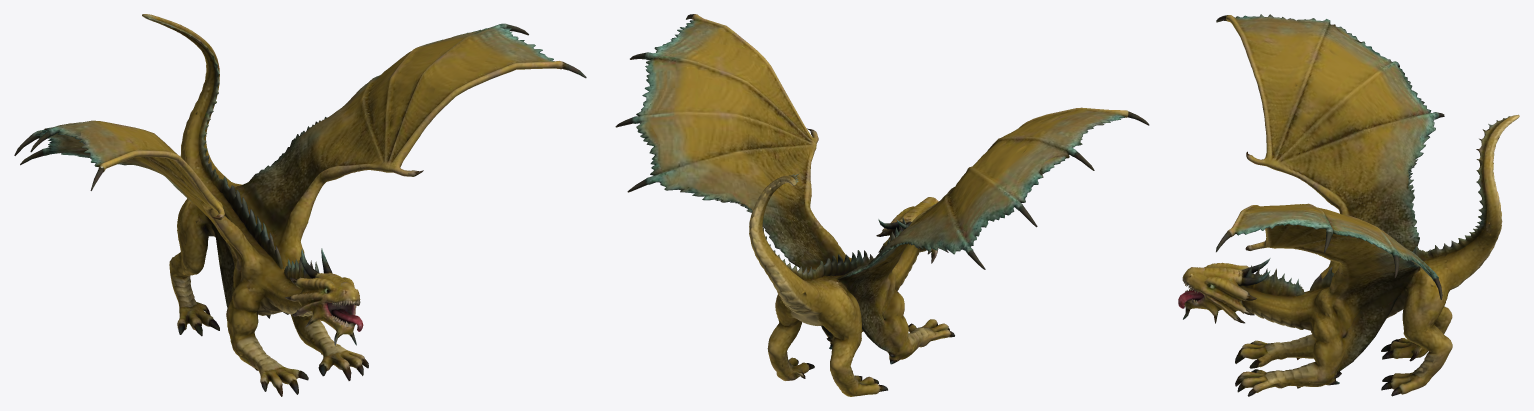
File: MZ4250 - Dragon Bronze Wyrmling.glb
The picture shows the model from 3 angles, left to right: view 1: azimuth 30°, elevation 25°; view 2: azimuth 150°, elevation 25°; view 3: azimuth 270°, elevation 25°; orthographic projection. The views are drawn at different scales.
Parts seen in each view (by area): view 1: Bronze Dragon Wyrmling.001; view 2: Bronze Dragon Wyrmling.001; view 3: Bronze Dragon Wyrmling.001.
Boxes of the visible parts, left/top/right/bottom form: Bronze Dragon Wyrmling.001: left=14, top=14, right=586, bottom=396; Bronze Dragon Wyrmling.001: left=615, top=14, right=1149, bottom=396; Bronze Dragon Wyrmling.001: left=1178, top=14, right=1519, bottom=396.
Size of the model in its own units: 68.44 by 37.25 by 44.06.
Materials: 1 (1 with a texture image).
